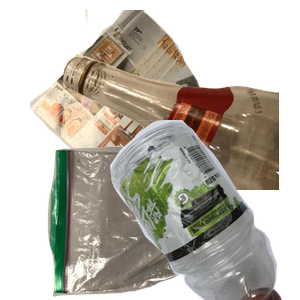glass: (60, 10, 300, 190)
paper: (27, 10, 230, 190)
plastic: (73, 120, 300, 300)
trash: (45, 144, 235, 300)
